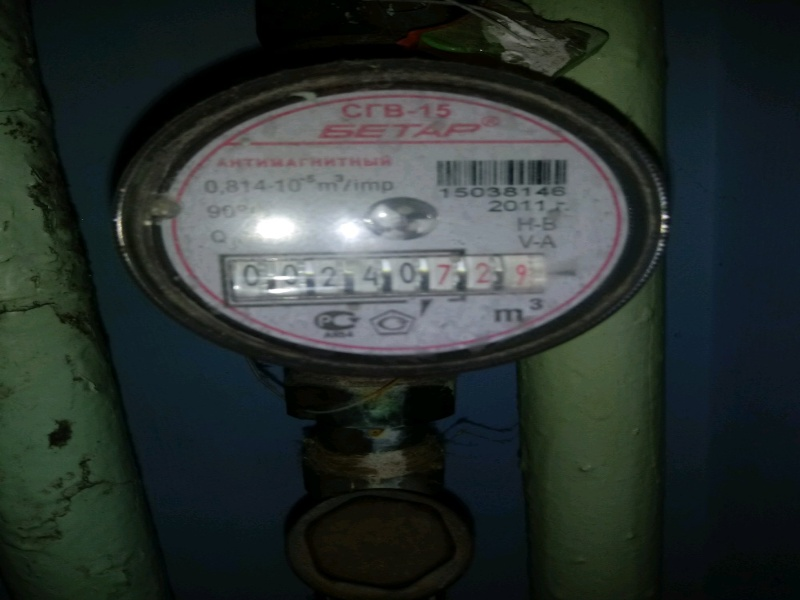meter: (227, 256, 537, 287)
